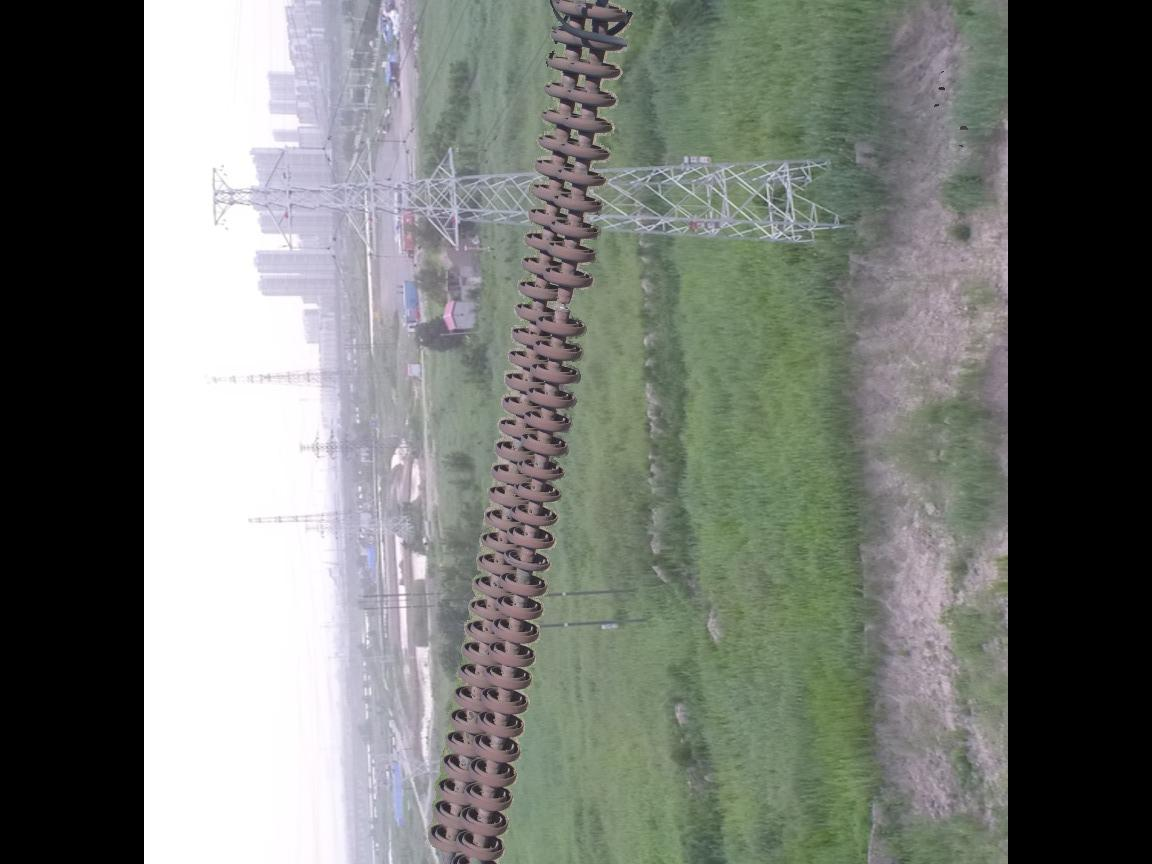insulator: (420, 1, 640, 864)
insulator_stringdrop: (533, 264, 595, 343)
